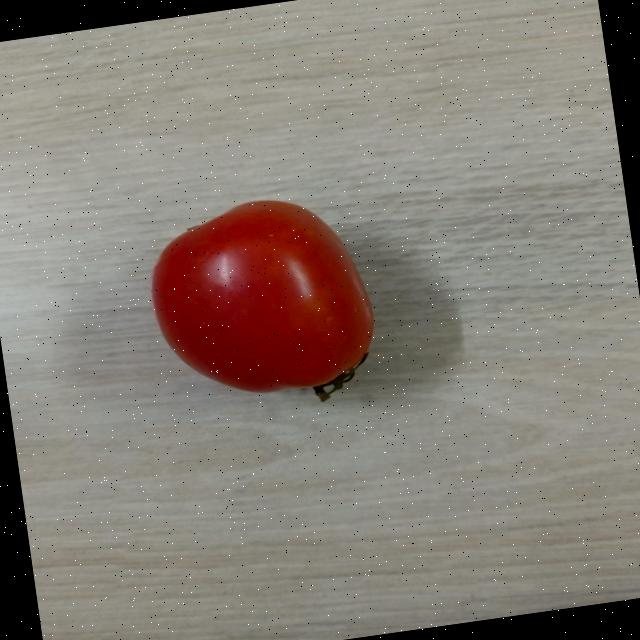Tomato: (134, 182, 388, 428)
